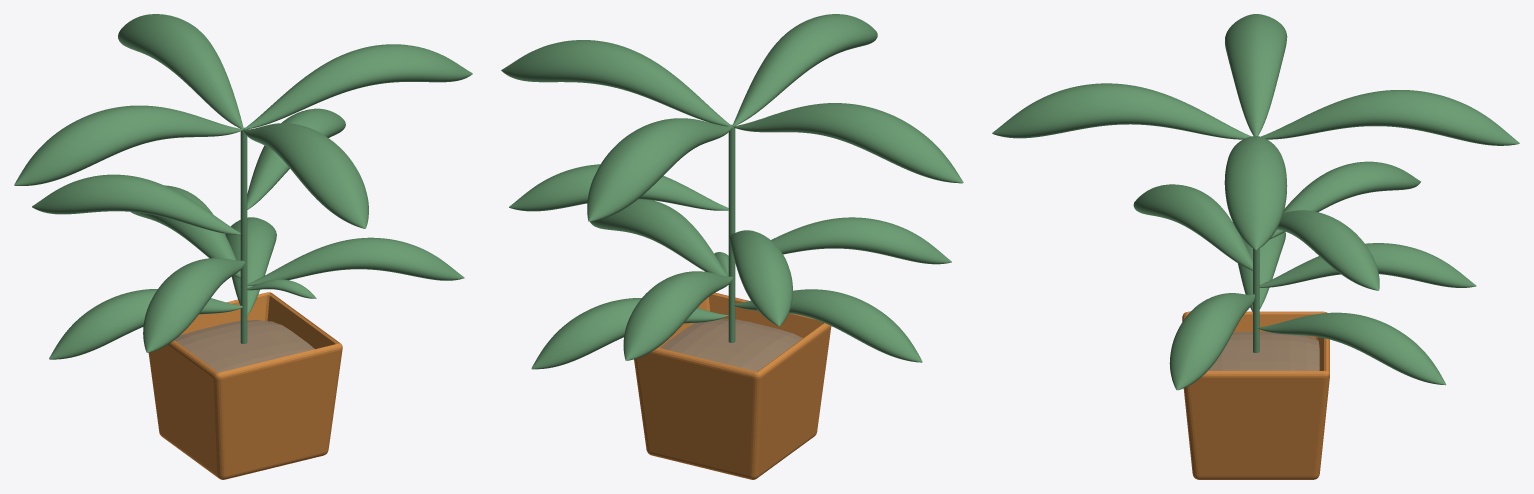
File: Planta3.fbx
3 renders of one model, left to right at view 1: azimuth 30°, elevation 25°; view 2: azimuth 150°, elevation 25°; view 3: azimuth 270°, elevation 25°, orthographic.
Visible parts, largest first — view 1: base, 2, 1, 3, 4, 6, 12, 8, 10, 5, 11, 9 (+2 smaller); view 2: base, 1, 2, 4, 3, 8, 9, 10, 11, 6, 12, 5 (+1 smaller); view 3: base, 3, 4, 1, 11, 2, 12, 8, 5, 9, 6, 10 (+1 smaller).
Part boxes in pixels (left/top/right/bottom): base: left=148, top=292, right=342, bottom=479; 2: left=14, top=105, right=242, bottom=185; 1: left=244, top=44, right=472, bottom=129; 3: left=243, top=123, right=368, bottom=228; 4: left=118, top=14, right=243, bottom=128; 6: left=32, top=174, right=240, bottom=235; 12: left=247, top=237, right=464, bottom=285; 8: left=143, top=258, right=245, bottom=352; 10: left=49, top=289, right=242, bottom=359; 5: left=247, top=108, right=345, bottom=209; 11: left=225, top=217, right=276, bottom=314; 9: left=131, top=185, right=240, bottom=278; base: left=634, top=292, right=831, bottom=479; 1: left=501, top=40, right=731, bottom=126; 2: left=733, top=103, right=963, bottom=183; 4: left=587, top=118, right=732, bottom=221; 3: left=732, top=14, right=877, bottom=125; 8: left=771, top=217, right=951, bottom=264; 9: left=623, top=271, right=733, bottom=360; 10: left=734, top=289, right=922, bottom=362; 11: left=531, top=298, right=728, bottom=369; 6: left=729, top=230, right=792, bottom=326; 12: left=590, top=199, right=727, bottom=276; 5: left=509, top=164, right=728, bottom=211; base: left=1182, top=311, right=1329, bottom=479; 3: left=992, top=83, right=1250, bottom=139; 4: left=1261, top=90, right=1519, bottom=145; 1: left=1224, top=136, right=1287, bottom=249; 11: left=1257, top=312, right=1446, bottom=385; 2: left=1225, top=14, right=1287, bottom=135; 12: left=1169, top=293, right=1254, bottom=390; 8: left=1133, top=184, right=1252, bottom=270; 5: left=1277, top=210, right=1379, bottom=290; 9: left=1259, top=243, right=1476, bottom=287; 6: left=1269, top=161, right=1420, bottom=239; 10: left=1238, top=232, right=1285, bottom=311.
Bounding box in the file's own units: 837 × 640 × 837.
